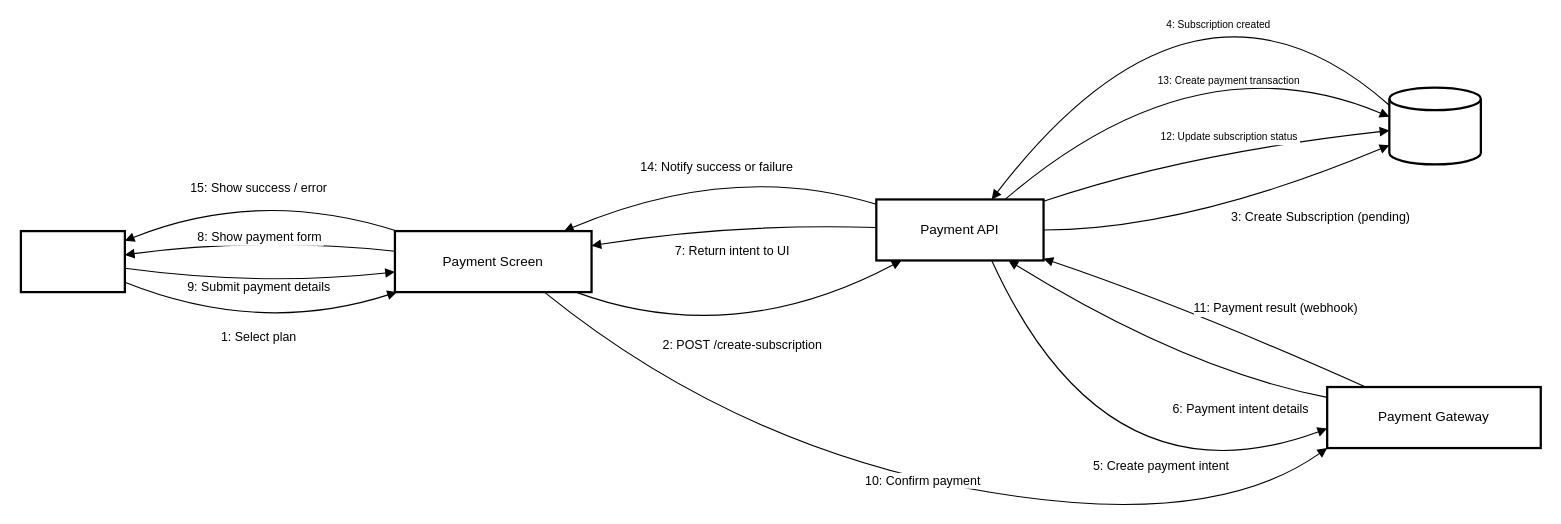
Some shapes in this 1561 by 524 pixel diagram are drawn without their labels. The shapes that lost their labels are listed below. From the top down, each one's centre as x and y in pixels, then its label:
(x=1434, y=125): Database
(x=72, y=261): User
